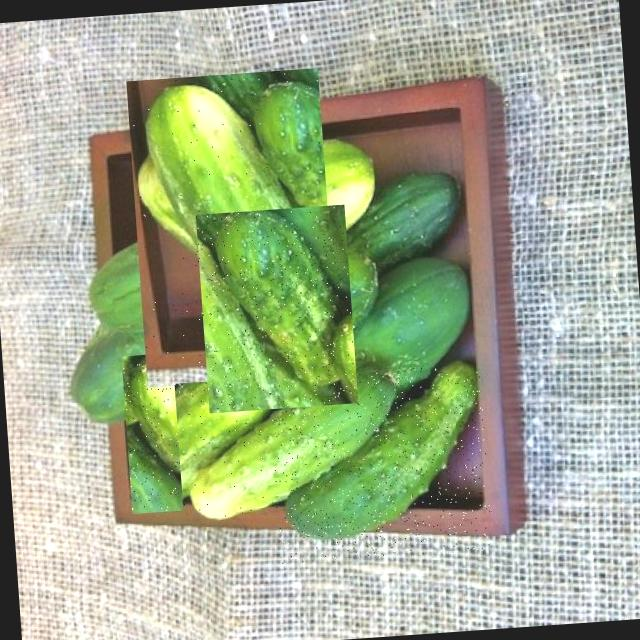Cucumber: (276, 371, 480, 542), (180, 374, 404, 522), (212, 194, 350, 410)
